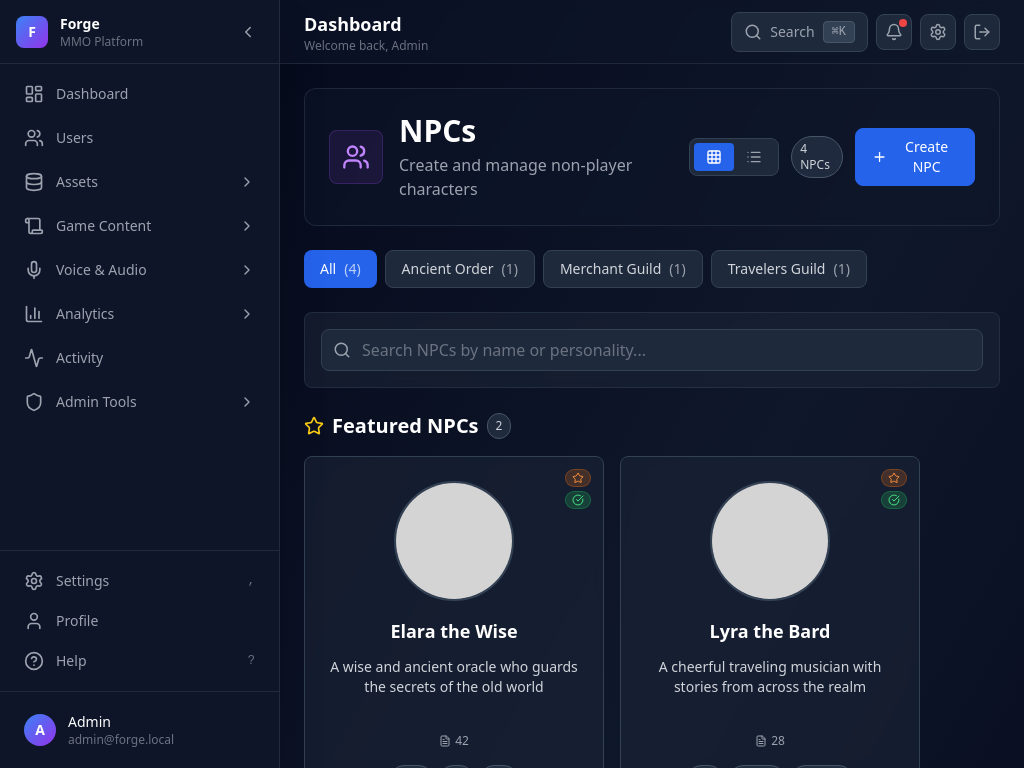
Scenario: NPCsPage - Integration Tests › AI NPC Generation › successfully generates NPC with AI
Expected: the heading "Elara the Wise" is shown, x1=390 y1=619 x2=518 y2=643
Click the button "Create NPC". click: point(915, 157)
box: x1=855 y1=128 x2=975 y2=186
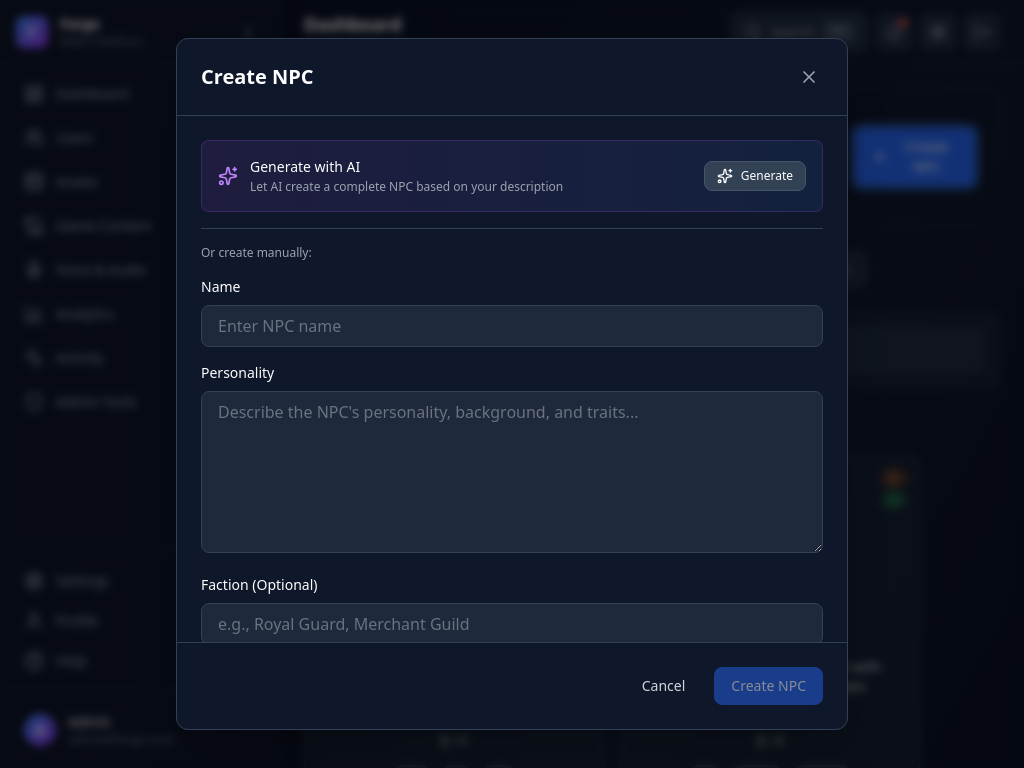
Click the button "Generate". click: point(755, 176)
box: x1=704 y1=161 x2=806 y2=191
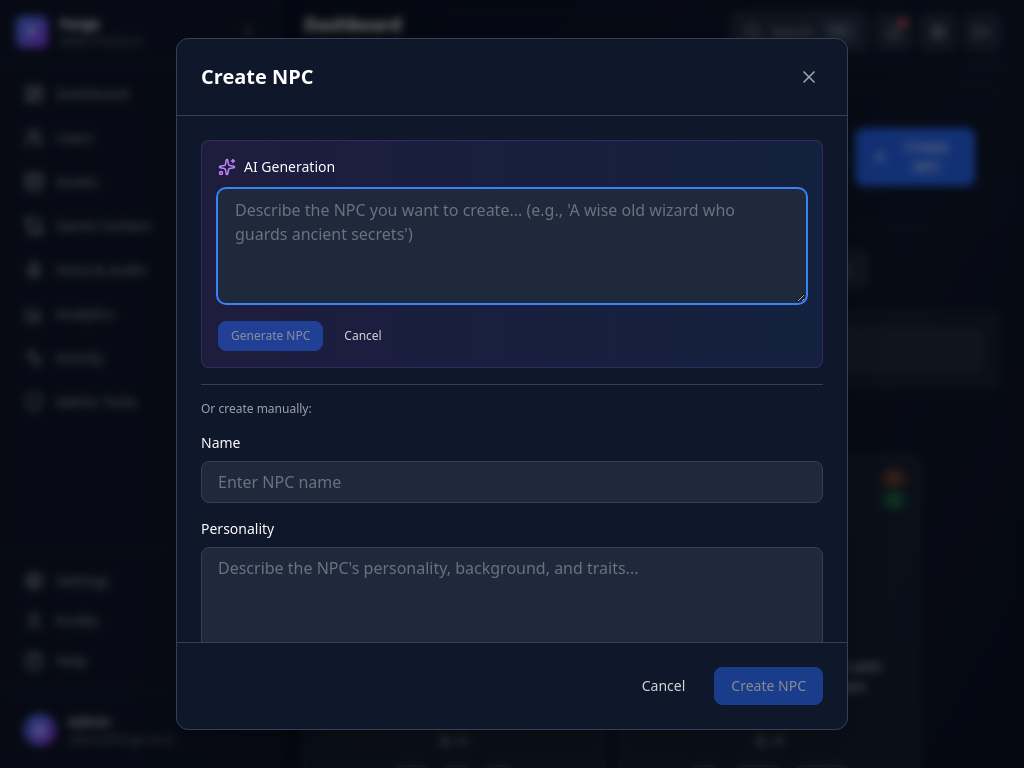
Type "A powerful wizard who guards ancient secrets" into the text box with placeholder "Describe the NPC you want to create". click: point(512, 246)
box: x1=218 y1=189 x2=806 y2=303
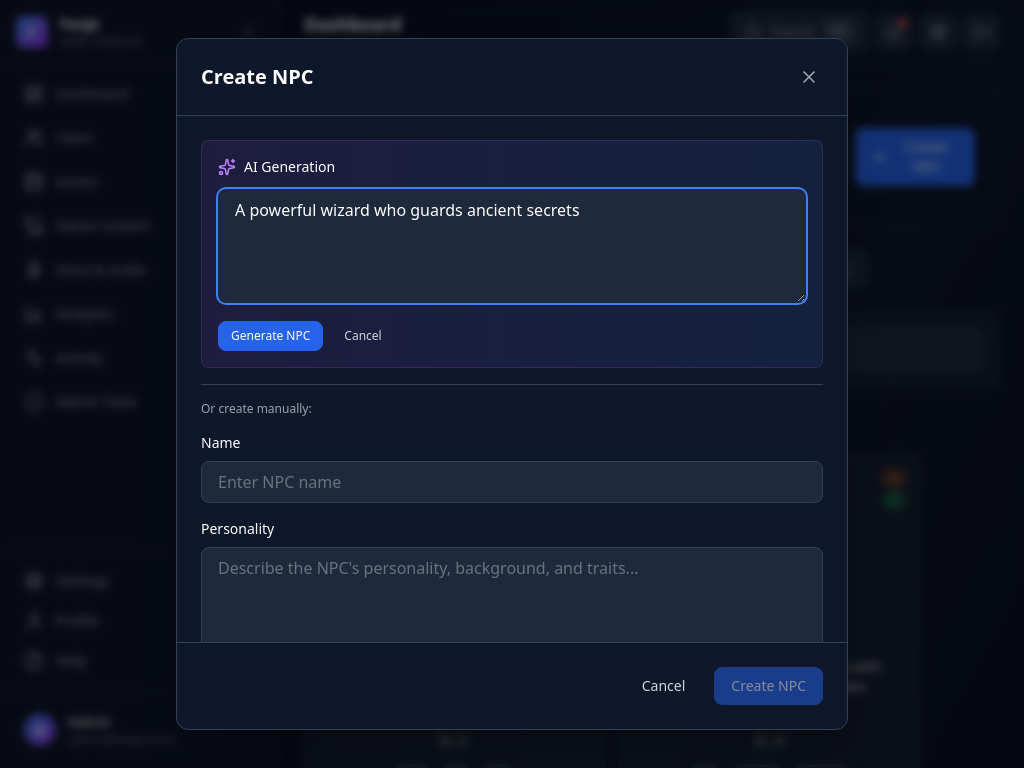
Click the button "Generate NPC". click: point(271, 336)
box: x1=218 y1=321 x2=323 y2=351
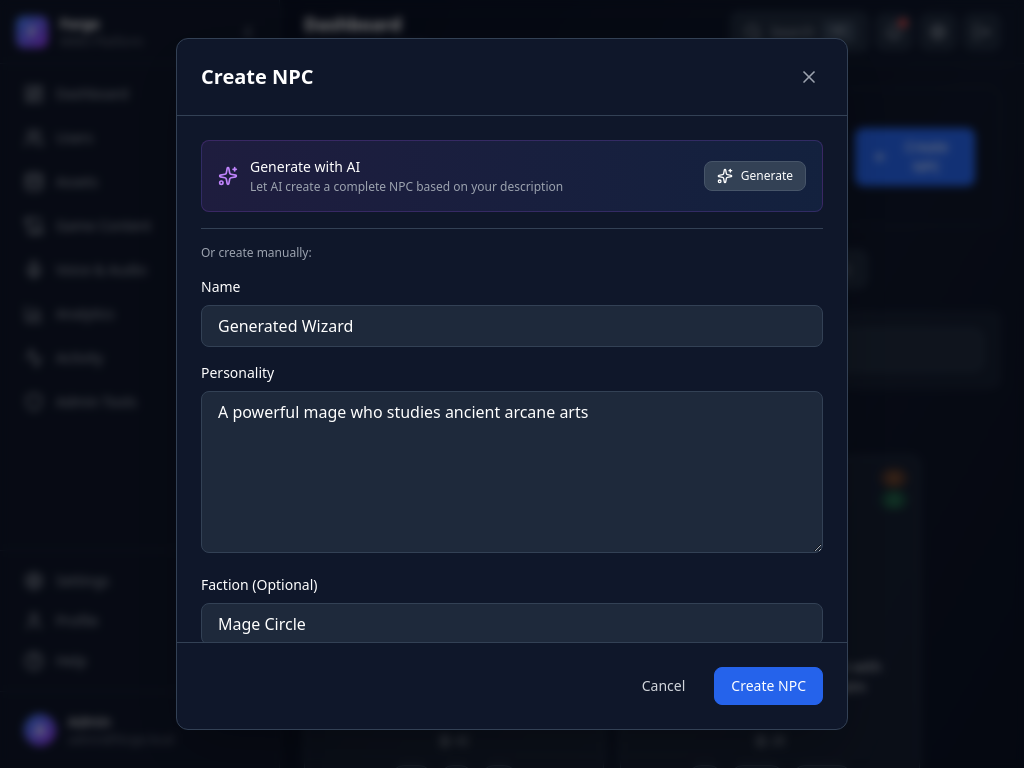
Now the field with placeholder "Enter NPC name" below "Name" holds "Generated Wizard", box x1=201 y1=305 x2=823 y2=347
Now the text box with placeholder "Describe the NPC's personality, background, and traits..." holds "A powerful mage who studies ancient arcane arts", box x1=201 y1=391 x2=823 y2=553
Now the field with placeholder "e.g., Royal Guard, Merchant Guild" below "Faction (Optional)" holds "Mage Circle", box x1=201 y1=603 x2=823 y2=642
